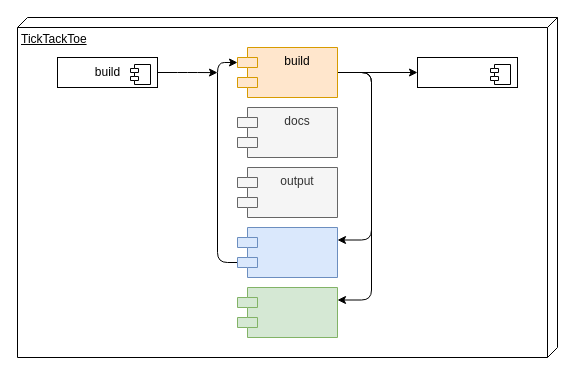
Some shapes in this 575 by 375 pixel diagram are drawn without their labels. The shapes that lost their labels are listed below. From the top down, each one's centre as x and y in pixels, then its label:
At point 467,72: "Start".
At point 287,252: "src".
At point 287,312: "test".
